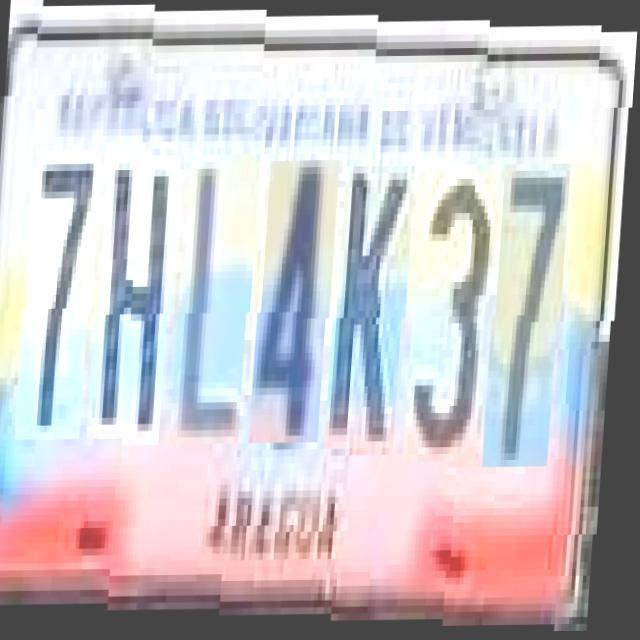3: (411, 146, 498, 442)
4: (256, 147, 339, 430)
7: (490, 138, 571, 442), (20, 150, 100, 440)
H: (92, 149, 180, 439)
K: (331, 146, 415, 436)
L: (176, 148, 260, 438)
